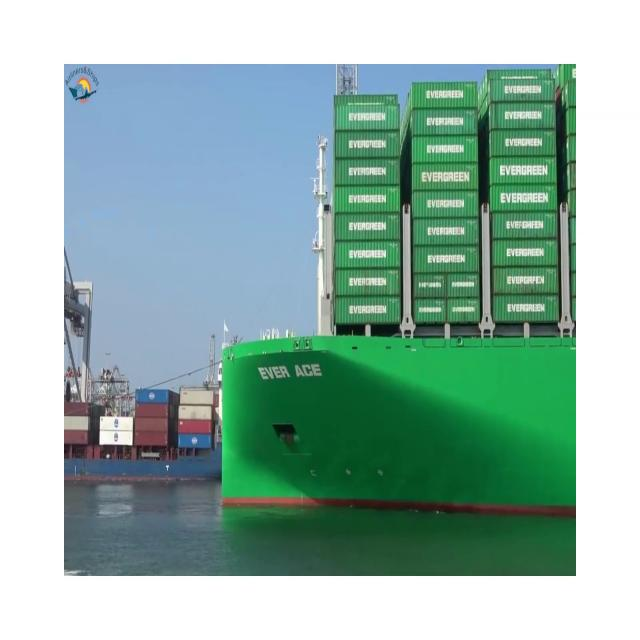OCR: (249, 354, 328, 387)
